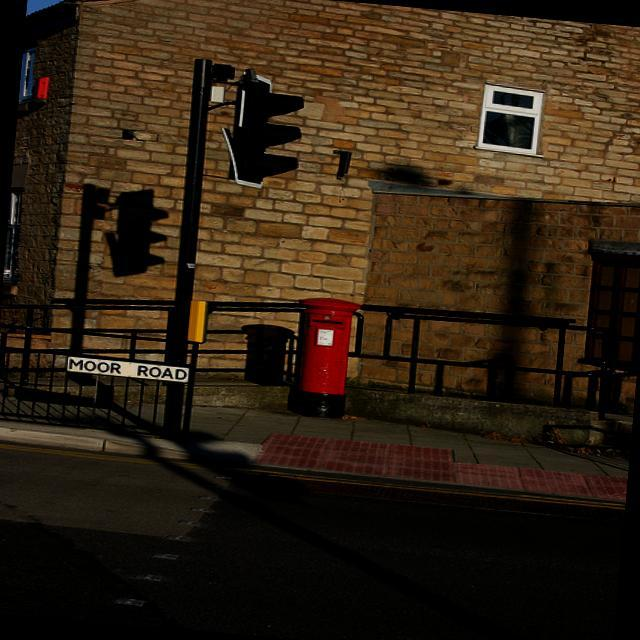fire_hydrant: (288, 295, 358, 420)
